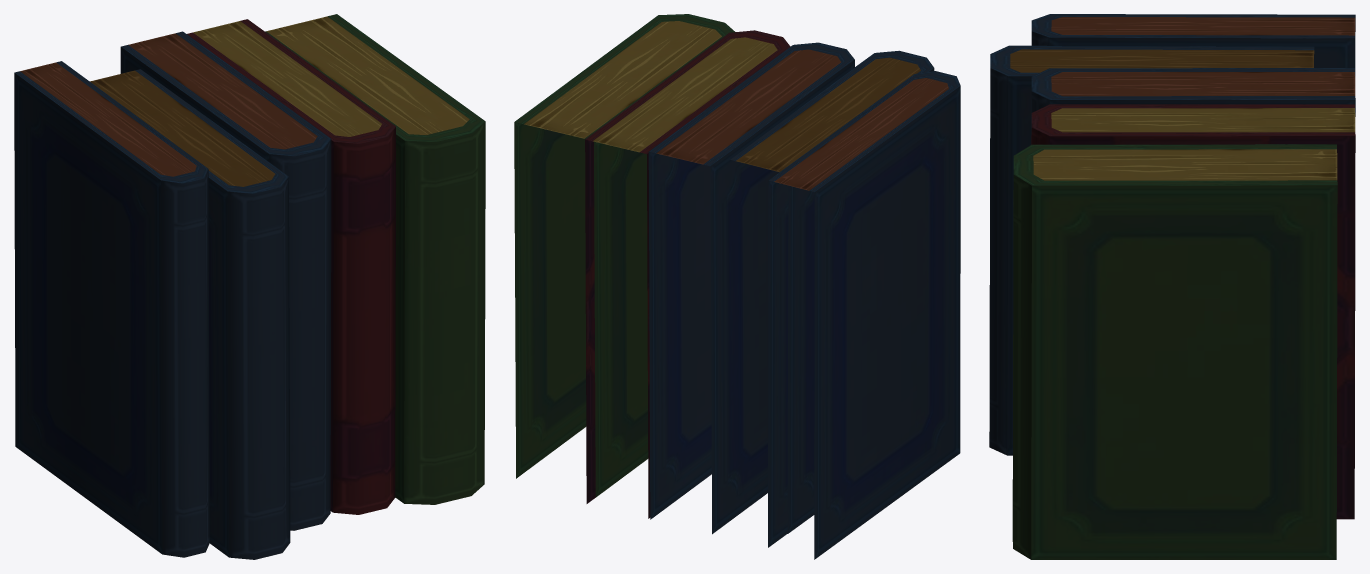
File: BookGroup_Small_3.gltf
3 views of the same model, side by side, from view 1: azimuth 30°, elevation 25°; view 2: azimuth 150°, elevation 25°; view 3: azimuth 270°, elevation 25° (orthographic). The views are drawn at different scales.
Parts seen in each view (by area): view 1: BookGroup_Small_3; view 2: BookGroup_Small_3; view 3: BookGroup_Small_3.
Part boxes in pixels (x1,y1,x2,y2): BookGroup_Small_3: (14, 14, 485, 559); BookGroup_Small_3: (514, 14, 960, 559); BookGroup_Small_3: (989, 14, 1355, 559).
Bounding box in the file's own units: 0.2448 × 0.2774 × 0.2373.
Materials: 1 (1 with a texture image).
